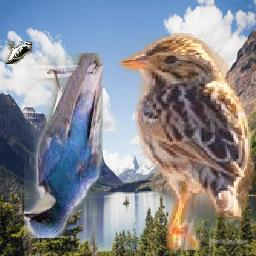Sparrow: (116, 34, 252, 251)
Swallow: (25, 54, 104, 239)
Woodpecker: (6, 42, 33, 65)
